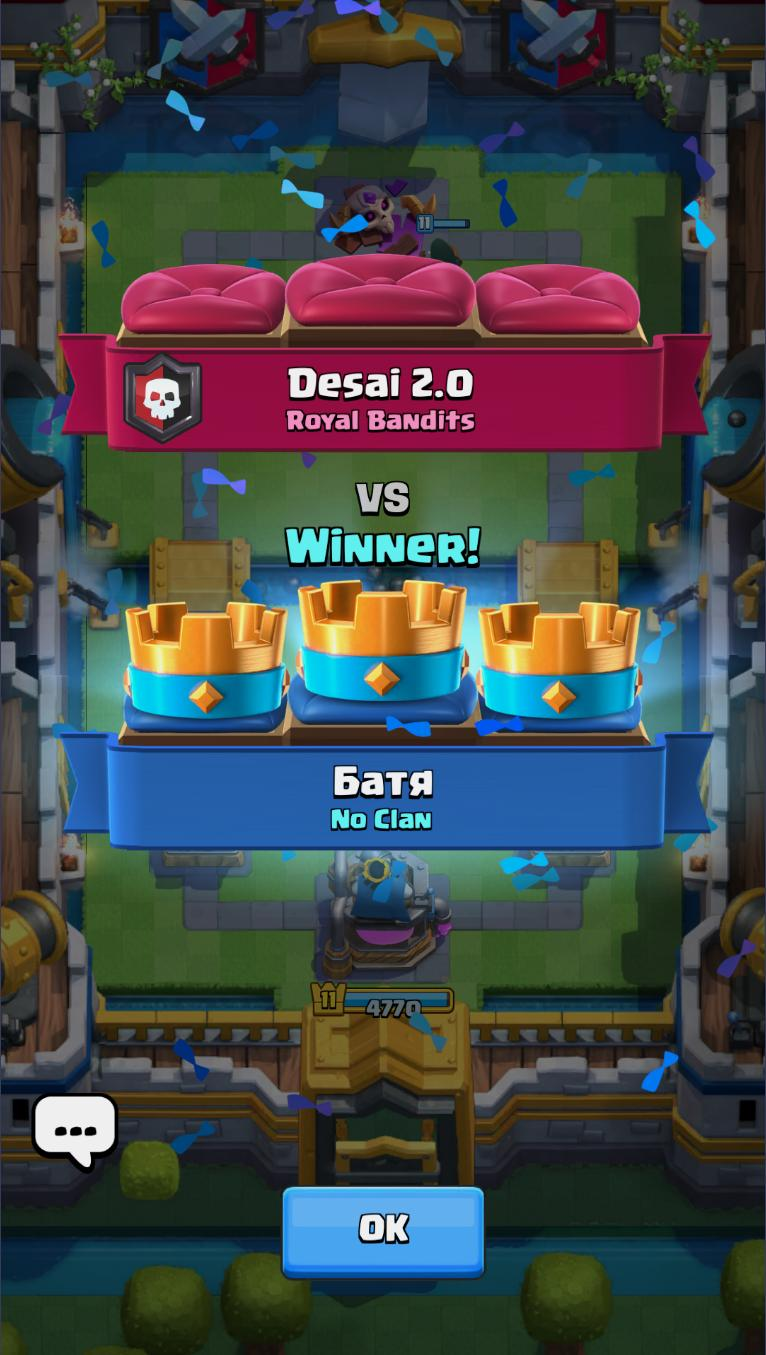KingTowerBrocken: (310, 169, 451, 257)
MyBandit: (414, 216, 473, 270)
MyKingHP: (308, 978, 455, 1018)
MyKingTower: (312, 851, 456, 985)
Win_3-0: (57, 249, 709, 851)
